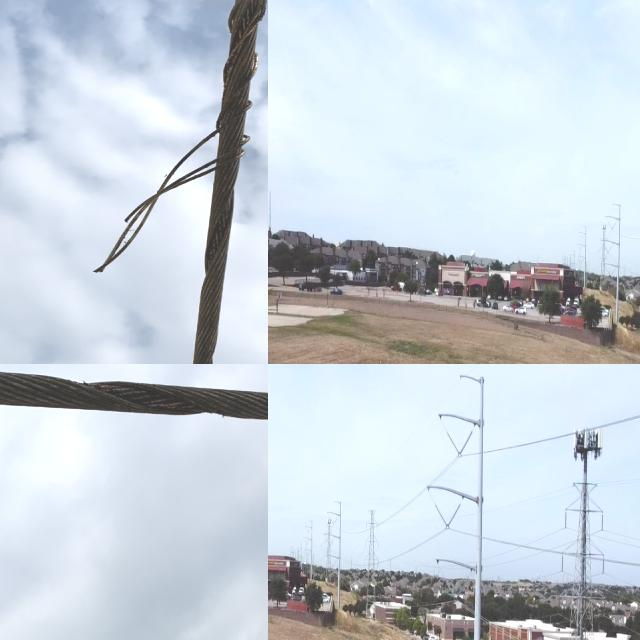杆塔: (547, 467, 617, 640), (364, 506, 381, 615)
正常绝缘子: (430, 497, 451, 532), (444, 499, 463, 534), (444, 425, 463, 459), (456, 427, 475, 459), (455, 573, 472, 602), (442, 573, 458, 603), (562, 503, 572, 540), (598, 510, 608, 543), (558, 546, 567, 578), (599, 555, 608, 583)
电缆破损: (63, 34, 268, 296)
